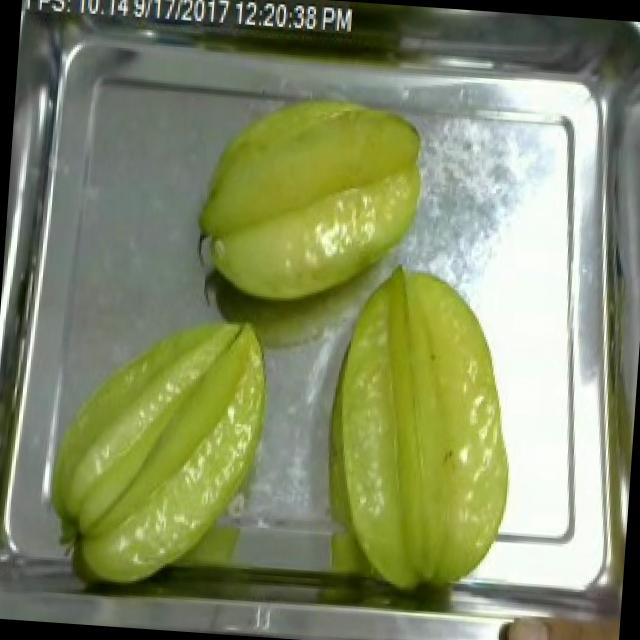fruit: (306, 256, 538, 615), (34, 294, 280, 602), (180, 76, 438, 324)
